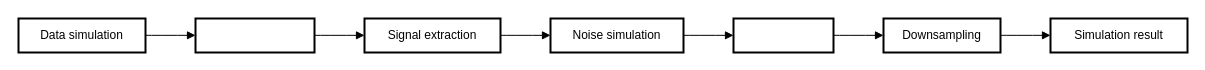
This 1205x70 diagram has some shape labels left out. The box of each missing label's shape, as (x1, y1, x2, y2) in pixels:
Convolution: (732, 17, 834, 53)
Pre-processing: (194, 17, 315, 53)
